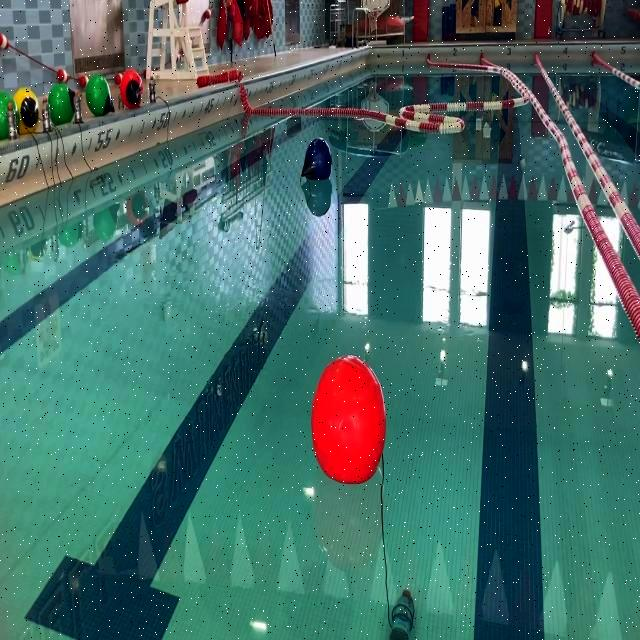buoy: (311, 356, 384, 484), (300, 136, 332, 186)
